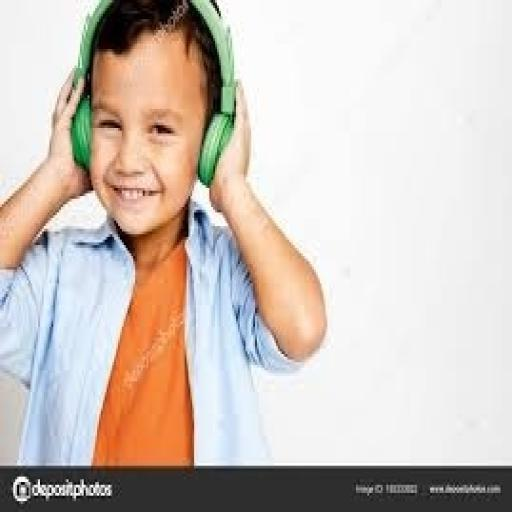listening_to_music: (0, 0, 331, 468), (66, 0, 240, 191)
